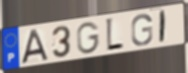3: (50, 25, 72, 60)
A: (20, 28, 49, 66)
G: (75, 21, 101, 56), (130, 13, 154, 47)
I: (158, 9, 167, 46)
L: (105, 17, 125, 54)
